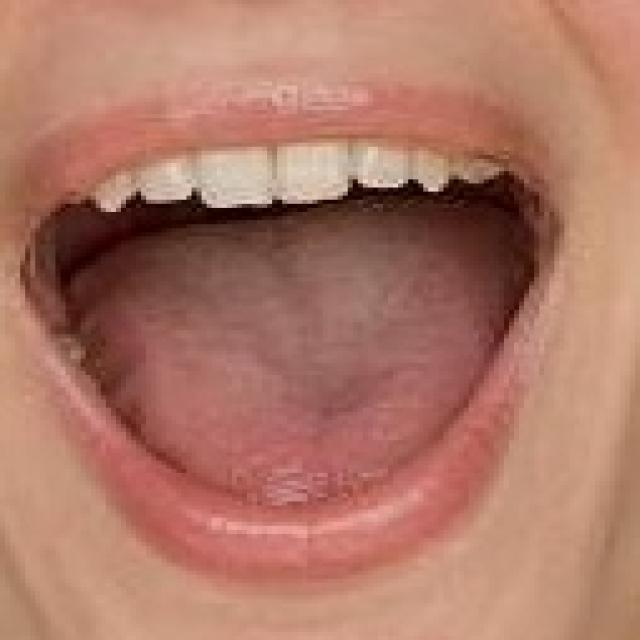open-mouth: (9, 86, 564, 584)
